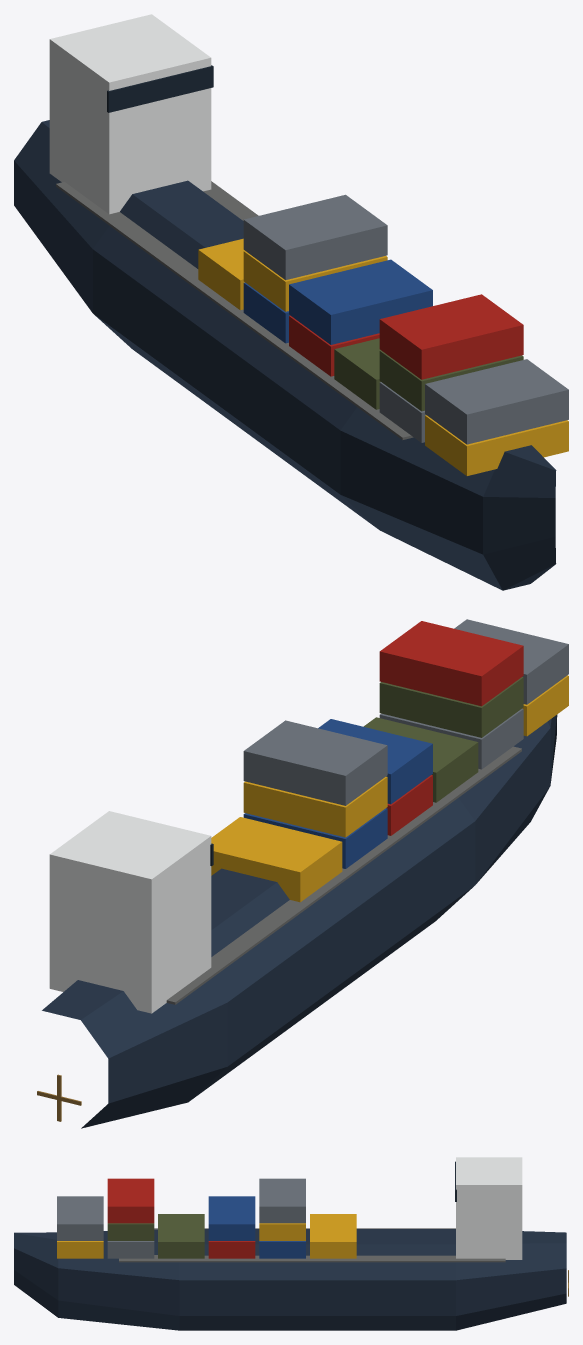
Rendered from veh_naval_merchant_a07.glb.
3 views of the same model, one above another, from view 1: azimuth 30°, elevation 25°; view 2: azimuth 150°, elevation 25°; view 3: azimuth 270°, elevation 25° (orthographic). The views are drawn at different scales.
Parts seen in each view (by area): view 1: body; view 2: body; view 3: body.
Part boxes in pixels (<box>): body: <box>14,14,568,590</box>; body: <box>42,619,568,1128</box>; body: <box>14,1157,566,1330</box>.
Size of what is drawn, in the model's own units: 4.46 by 8.61 by 28.52.
